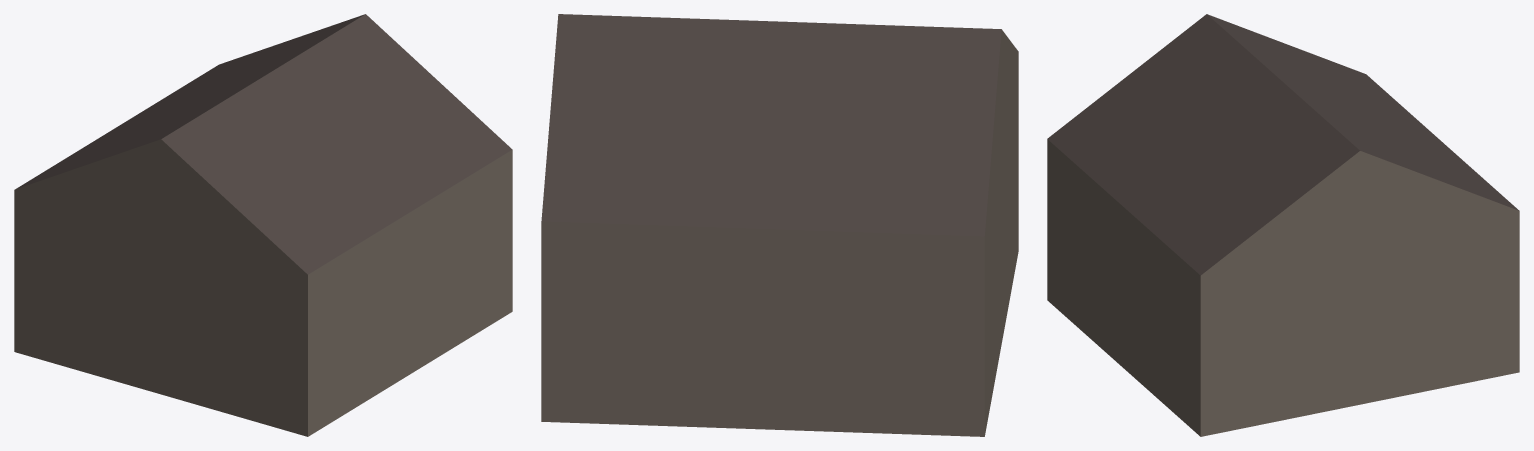
The picture shows the model from 3 angles, left to right: view 1: azimuth 30°, elevation 25°; view 2: azimuth 150°, elevation 25°; view 3: azimuth 270°, elevation 25°; orthographic projection. The views are drawn at different scales.
Visible parts, largest first — view 1: HP-w859088454; view 2: HP-w859088454; view 3: HP-w859088454.
Part boxes in pixels (x1,y1,x2,y2): HP-w859088454: (14, 14, 512, 436); HP-w859088454: (541, 14, 1018, 436); HP-w859088454: (1047, 14, 1519, 436).
Size of the model in its own units: 24.09 by 14.16 by 23.89.
